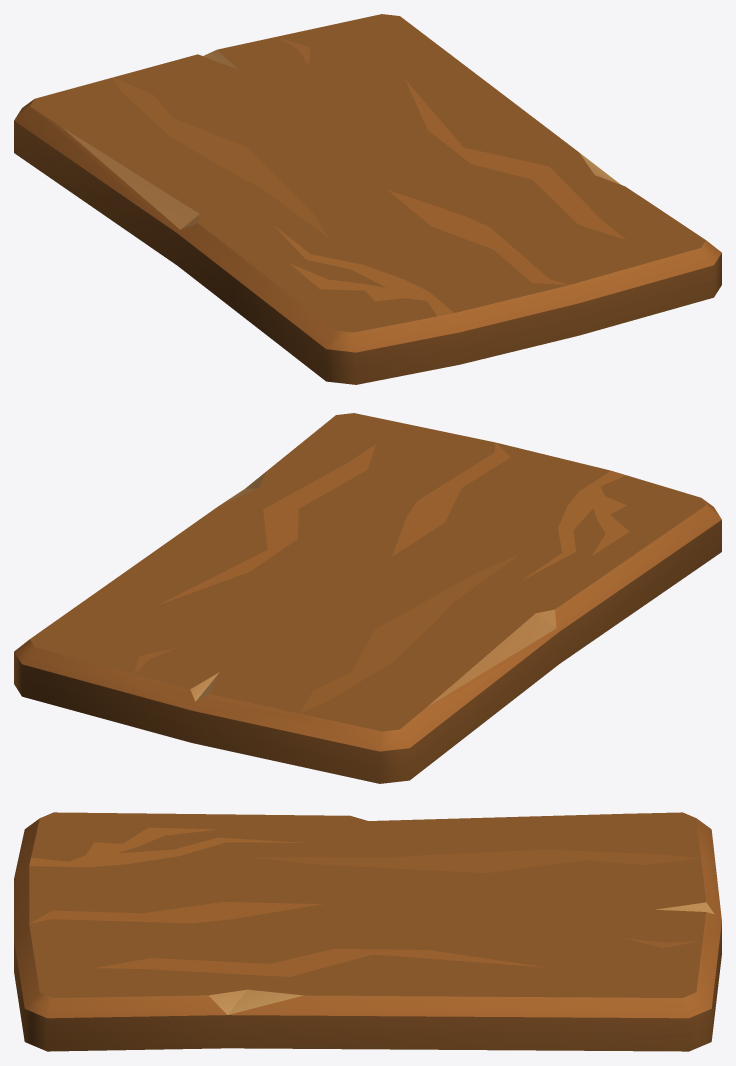
The model's file is ChoppingBoard_1_C.glb.
The picture shows the model from 3 angles, top to bottom: view 1: azimuth 30°, elevation 25°; view 2: azimuth 150°, elevation 25°; view 3: azimuth 270°, elevation 25°; orthographic projection. The views are drawn at different scales.
Visible parts, largest first — view 1: ChoppingBoard_1_C; view 2: ChoppingBoard_1_C; view 3: ChoppingBoard_1_C.
Part boxes in pixels (box(x1,y1,x2,y2)): ChoppingBoard_1_C: box(14, 14, 721, 384); ChoppingBoard_1_C: box(14, 413, 721, 783); ChoppingBoard_1_C: box(14, 812, 721, 1051).
Size of the model in its own units: 0.7673 by 0.0847 by 1.16.
Materials: 1 (1 with a texture image).
